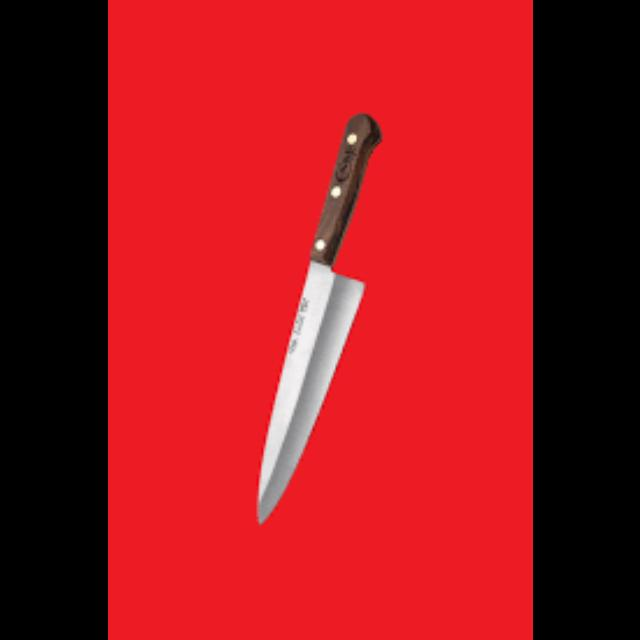Knife: (254, 112, 382, 524)
